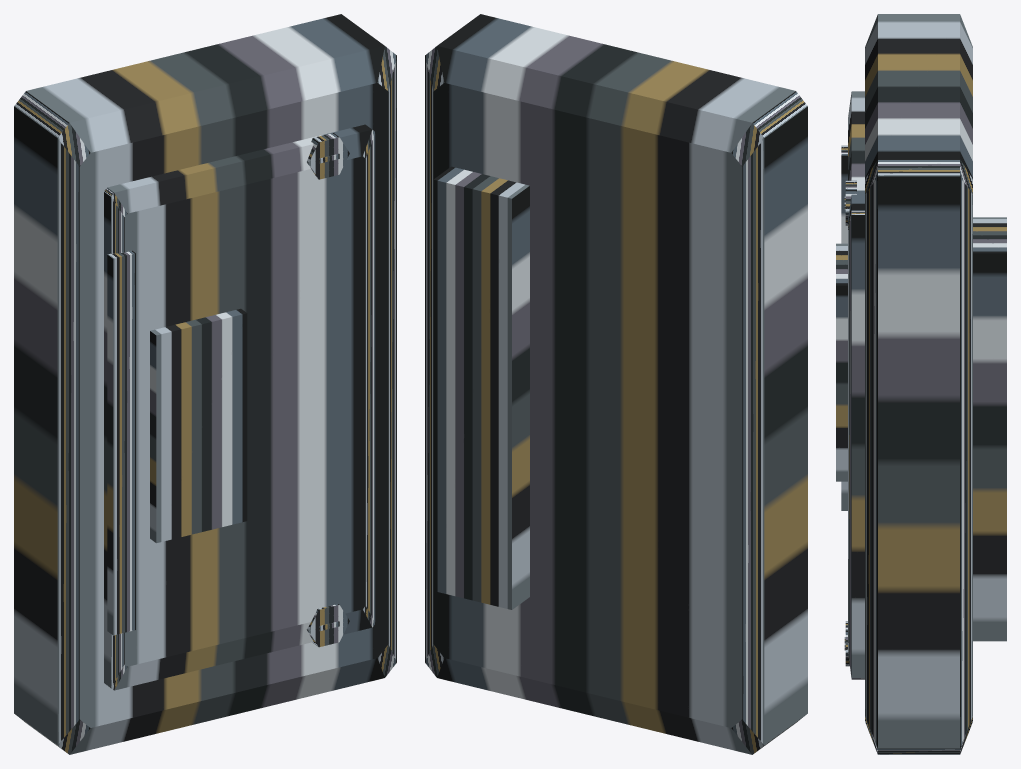
File: CarrierHeavyTurretShutter.obj
3 renders of one model, left to right at view 1: azimuth 30°, elevation 25°; view 2: azimuth 150°, elevation 25°; view 3: azimuth 270°, elevation 25°, orthographic. The views are drawn at different scales.
Visible parts, largest first — view 1: CarrierHeavyTurretShutter; view 2: CarrierHeavyTurretShutter; view 3: CarrierHeavyTurretShutter.
Boxes of the visible parts, <box> form: CarrierHeavyTurretShutter: <box>14,14,396,754</box>; CarrierHeavyTurretShutter: <box>425,14,807,754</box>; CarrierHeavyTurretShutter: <box>836,14,1006,754</box>.
Bounding box in the file's own units: 0.82 × 1.46 × 0.379.
1 material, 1 textured.
